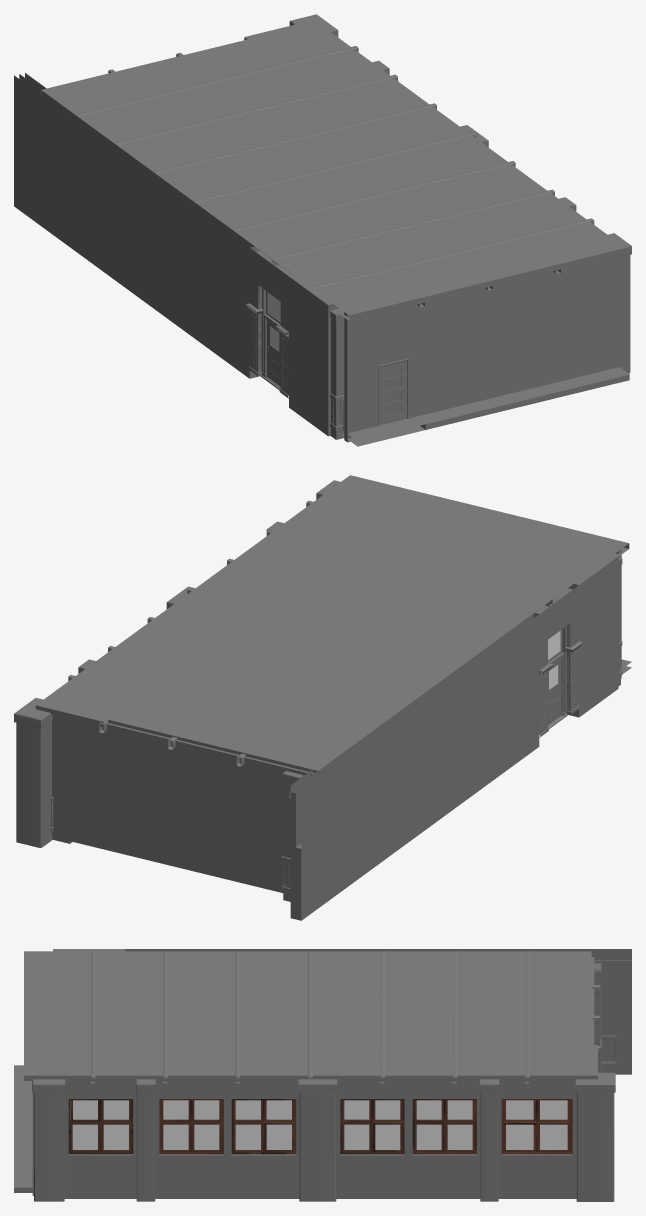
Rendered from Lab room.fbx.
3 renders of one model, top to bottom at view 1: azimuth 30°, elevation 25°; view 2: azimuth 150°, elevation 25°; view 3: azimuth 270°, elevation 25°, orthographic. The views are drawn at different scales.
Visible parts, largest first — view 1: SM_Classroom, Mesh_0116.rip.002, Mesh_0175.rip; view 2: SM_Classroom, Mesh_0175.rip; view 3: SM_Classroom.
Part boxes in pixels (bbox=[...]): SM_Classroom: bbox=[14, 14, 631, 446]; Mesh_0116.rip.002: bbox=[380, 360, 407, 425]; Mesh_0175.rip: bbox=[267, 319, 280, 386]; SM_Classroom: bbox=[14, 475, 631, 920]; Mesh_0175.rip: bbox=[548, 658, 561, 724]; SM_Classroom: bbox=[14, 949, 631, 1201].
Size of the model in its own units: 1093 by 463 by 2135.
